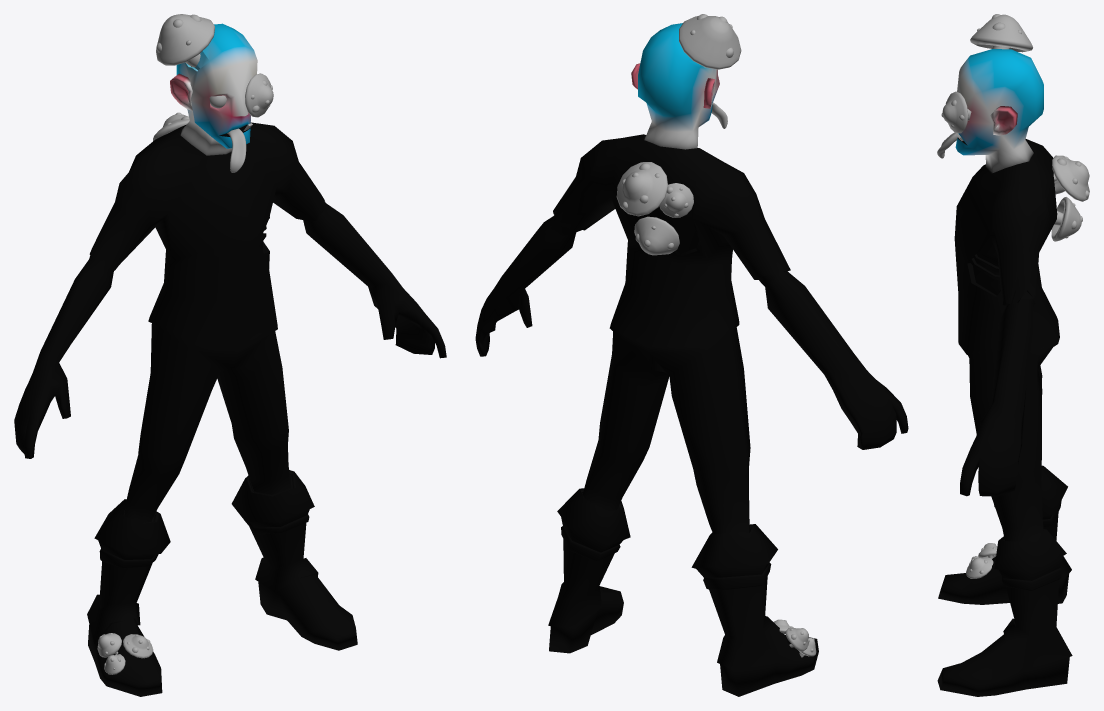
Rendered from MushroomZombie_Finished.fbx.
The picture shows the model from 3 angles, left to right: view 1: azimuth 30°, elevation 25°; view 2: azimuth 150°, elevation 25°; view 3: azimuth 270°, elevation 25°; orthographic projection. The views are drawn at different scales.
Parts seen in each view (by area): view 1: zombie_basemesh, Mushroomhead, Mushroom2; view 2: zombie_basemesh, Mushroomhead, Mushroom6, Mushroom8, Mushroom7; view 3: zombie_basemesh, Mushroomhead, Mushroom6, Mushroom8, Mushroom2, Mushroom3.
Boxes of the visible parts, x1,y1,x2,y2 form: zombie_basemesh: [14, 23, 446, 696]; Mushroomhead: [156, 14, 214, 67]; Mushroom2: [245, 73, 273, 117]; zombie_basemesh: [475, 23, 908, 696]; Mushroomhead: [679, 14, 741, 69]; Mushroom6: [616, 162, 668, 216]; Mushroom8: [634, 216, 679, 255]; Mushroom7: [659, 183, 693, 217]; zombie_basemesh: [937, 49, 1072, 696]; Mushroomhead: [970, 14, 1032, 52]; Mushroom6: [1052, 155, 1089, 201]; Mushroom8: [1051, 197, 1082, 241]; Mushroom2: [941, 91, 971, 133]; Mushroom3: [966, 557, 993, 578].
Size of the model in its own units: 127 by 184 by 42.06.
